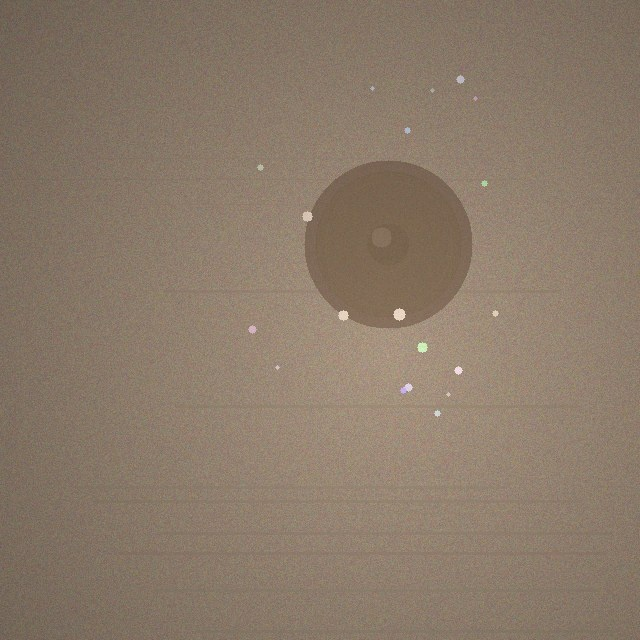overburn: (304, 160, 472, 328)
